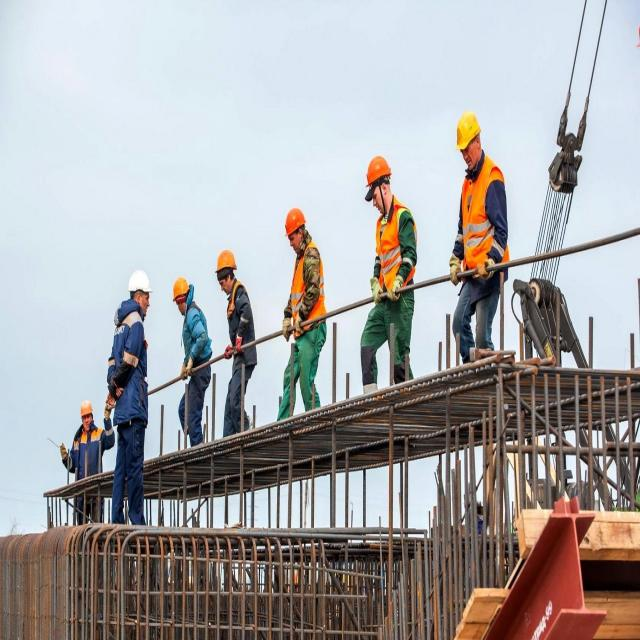Helmet: (455, 112, 482, 155), (365, 157, 393, 196), (284, 208, 308, 241), (129, 271, 154, 301), (214, 251, 238, 282), (172, 279, 191, 307), (81, 402, 94, 422)
Jacket: (462, 159, 499, 272), (376, 201, 412, 296), (291, 249, 326, 328), (77, 428, 103, 478)
NoJacket: (113, 309, 146, 417), (228, 285, 250, 351), (183, 307, 205, 372)
